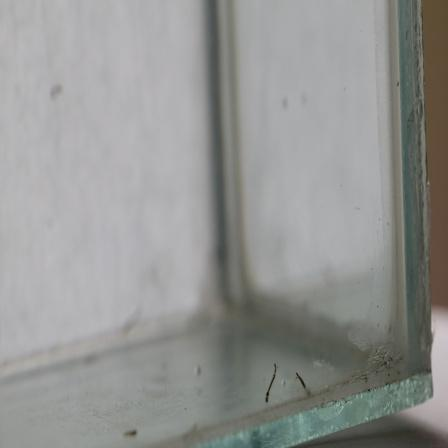Jentik-Nyamuk: (263, 359, 281, 405), (293, 368, 311, 393)
